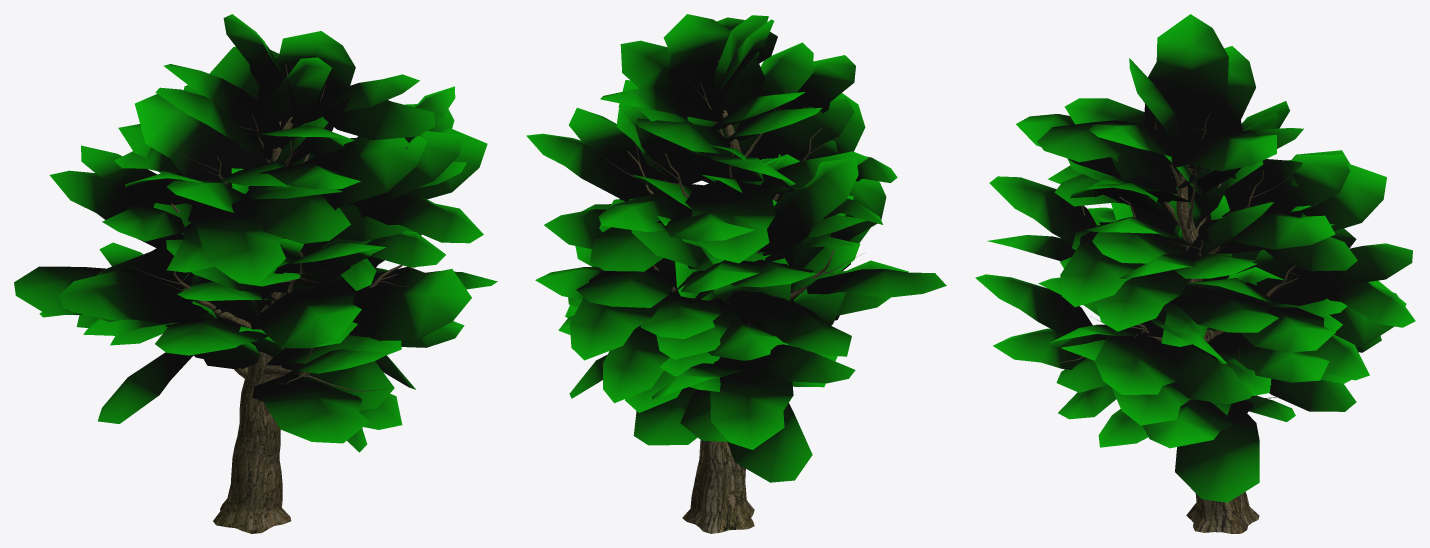
The model's file is oaktrees3.fbx.
The picture shows the model from 3 angles, left to right: view 1: azimuth 30°, elevation 25°; view 2: azimuth 150°, elevation 25°; view 3: azimuth 270°, elevation 25°; orthographic projection. The views are drawn at different scales.
Visible parts, largest first — view 1: treelarge; view 2: treelarge; view 3: treelarge.
Part boxes in pixels (bbox=[...]): treelarge: bbox=[14, 14, 497, 533]; treelarge: bbox=[526, 14, 946, 533]; treelarge: bbox=[975, 14, 1415, 533].
Bounding box in the file's own units: 644 × 779 × 636.
